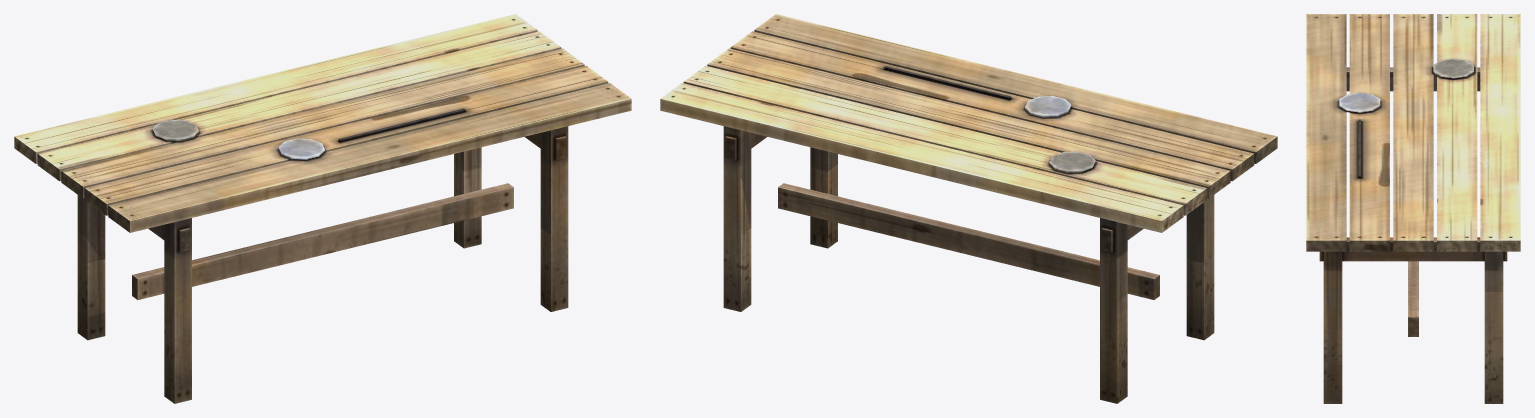
Rendered from mesa.glb.
The picture shows the model from 3 angles, left to right: view 1: azimuth 30°, elevation 25°; view 2: azimuth 150°, elevation 25°; view 3: azimuth 270°, elevation 25°; orthographic projection. The views are drawn at different scales.
Visible parts, largest first — view 1: mesa; view 2: mesa; view 3: mesa.
Boxes of the visible parts, <box> form: mesa: <box>14,14,631,403</box>; mesa: <box>660,14,1277,403</box>; mesa: <box>1306,14,1520,403</box>.
Bounding box in the file's own units: 2 × 0.784 × 0.8.
Materials: 1 (1 with a texture image).
